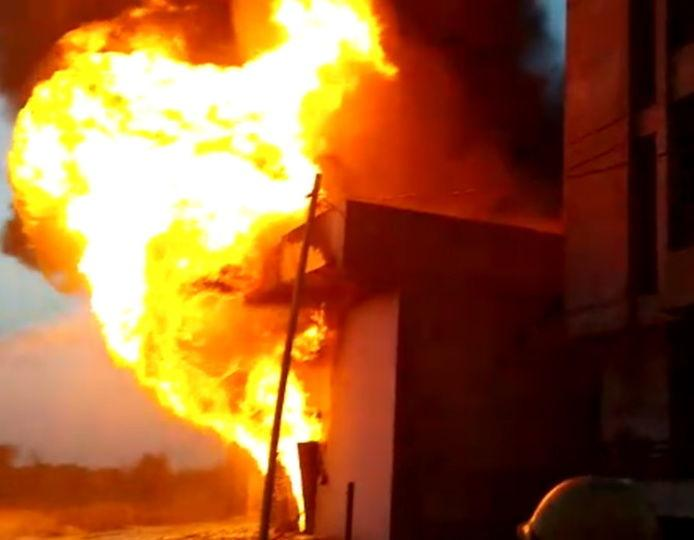Fire: (9, 8, 400, 530)
